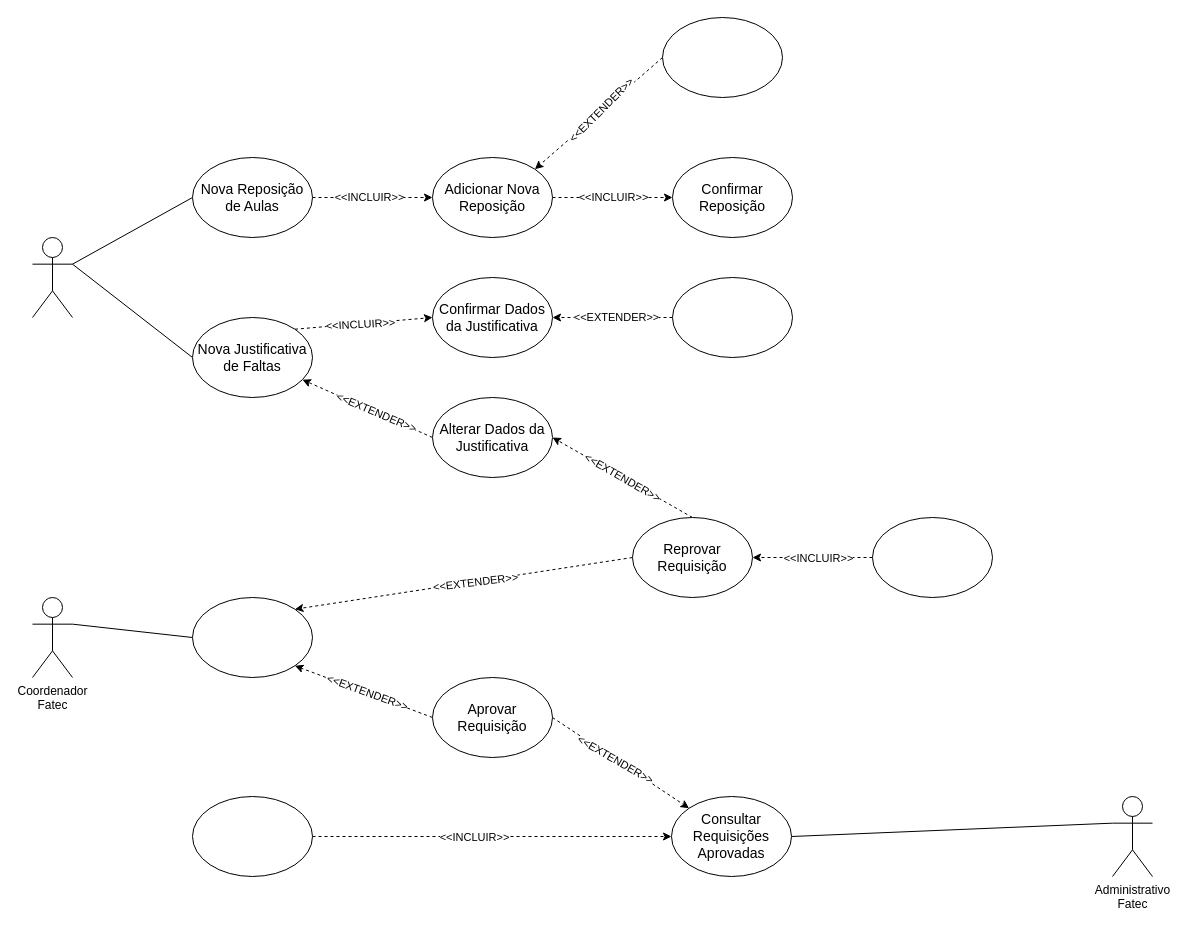
Some shapes in this 1187 by 930 pixel diagram are drawn without their labels. The shapes that lost their labels are listed below. From the top down, each one's box as (x1, y1, x2, y2) in pixels, then its label:
(662, 16, 782, 98): Alterar Dados Reposição
(32, 236, 72, 318): Professor Fatec
(672, 276, 792, 358): Upar Documento da Justificativa
(872, 516, 992, 598): Comentar Requisição
(192, 596, 312, 678): Consultar Requisições Pendentes
(192, 796, 312, 876): Finalizar Requisição
